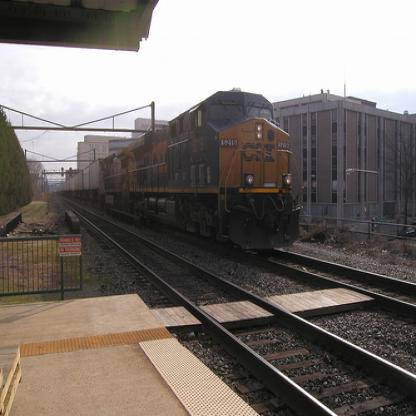train: (51, 88, 307, 254)
